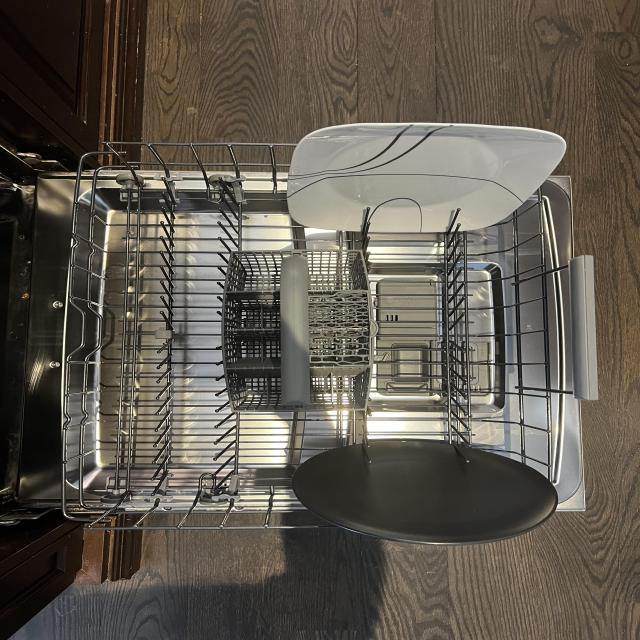Plate: (284, 112, 568, 233), (289, 438, 559, 546)
